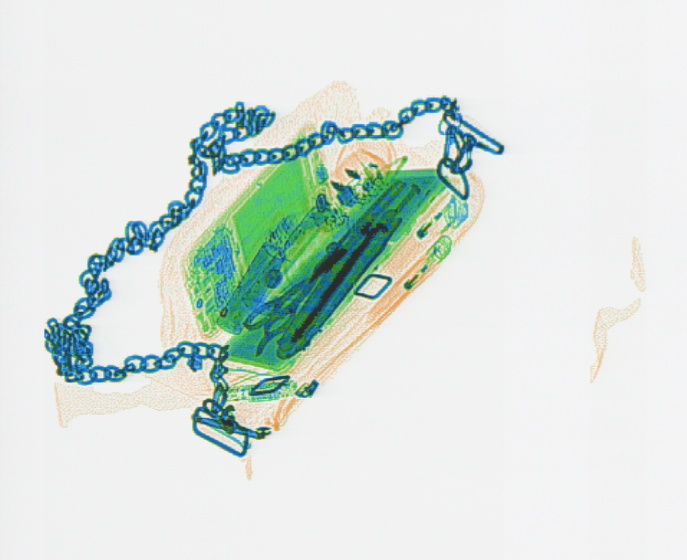knife: (272, 182, 406, 359)
lighter: (380, 187, 469, 292), (359, 232, 453, 327)
scissors: (236, 176, 406, 359)
